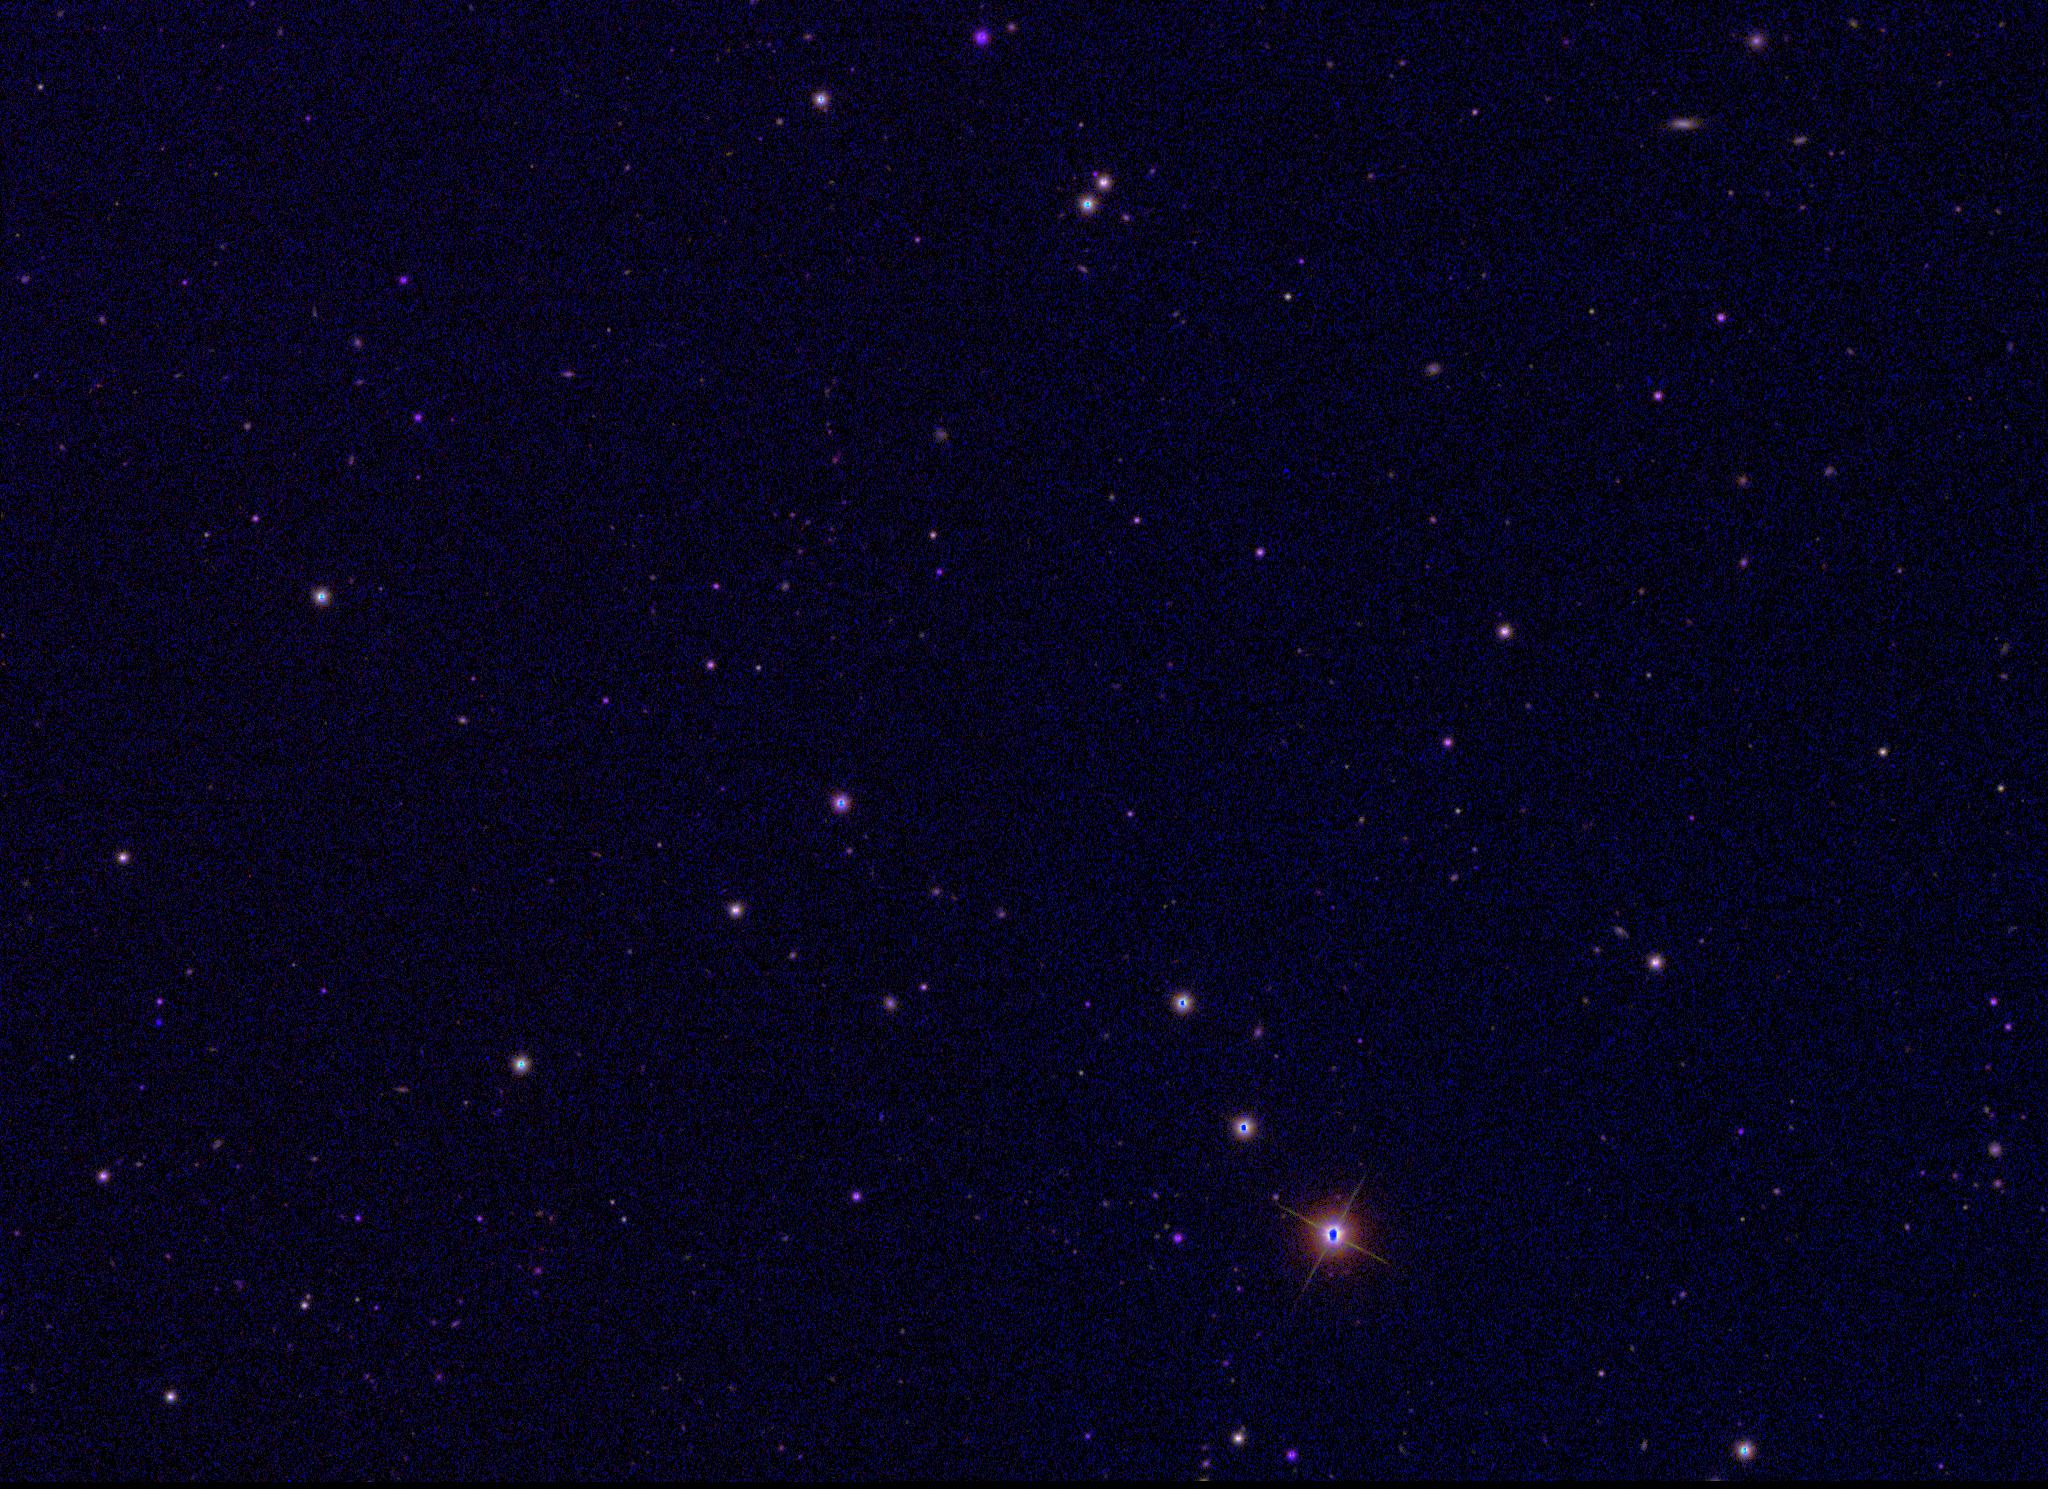L: (149, 1017, 164, 1029)
